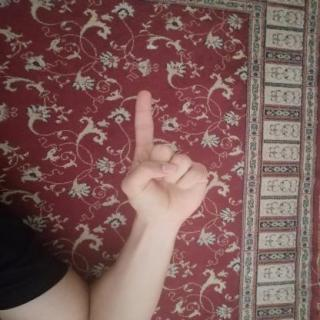BAA: (113, 79, 216, 228)
